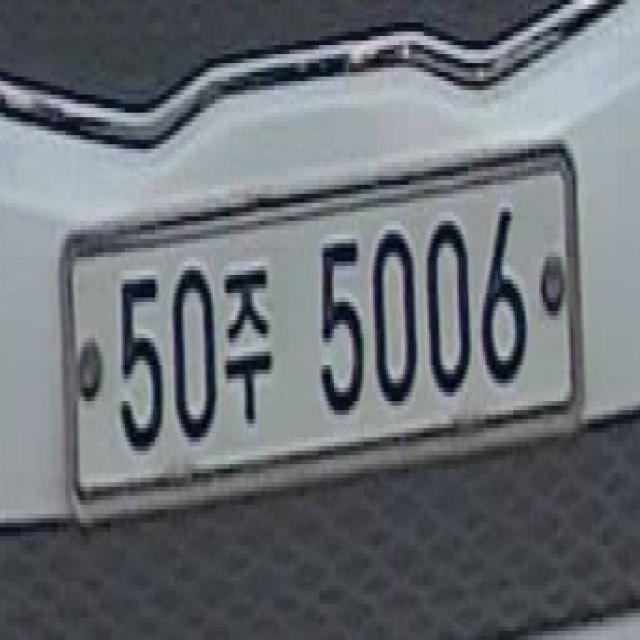0: (422, 212, 475, 410), (370, 214, 418, 418), (173, 258, 216, 450)
5: (110, 266, 166, 465), (318, 214, 368, 426)
6: (479, 200, 531, 398)
ju: (222, 251, 276, 444)
license_plate: (56, 122, 588, 558)
